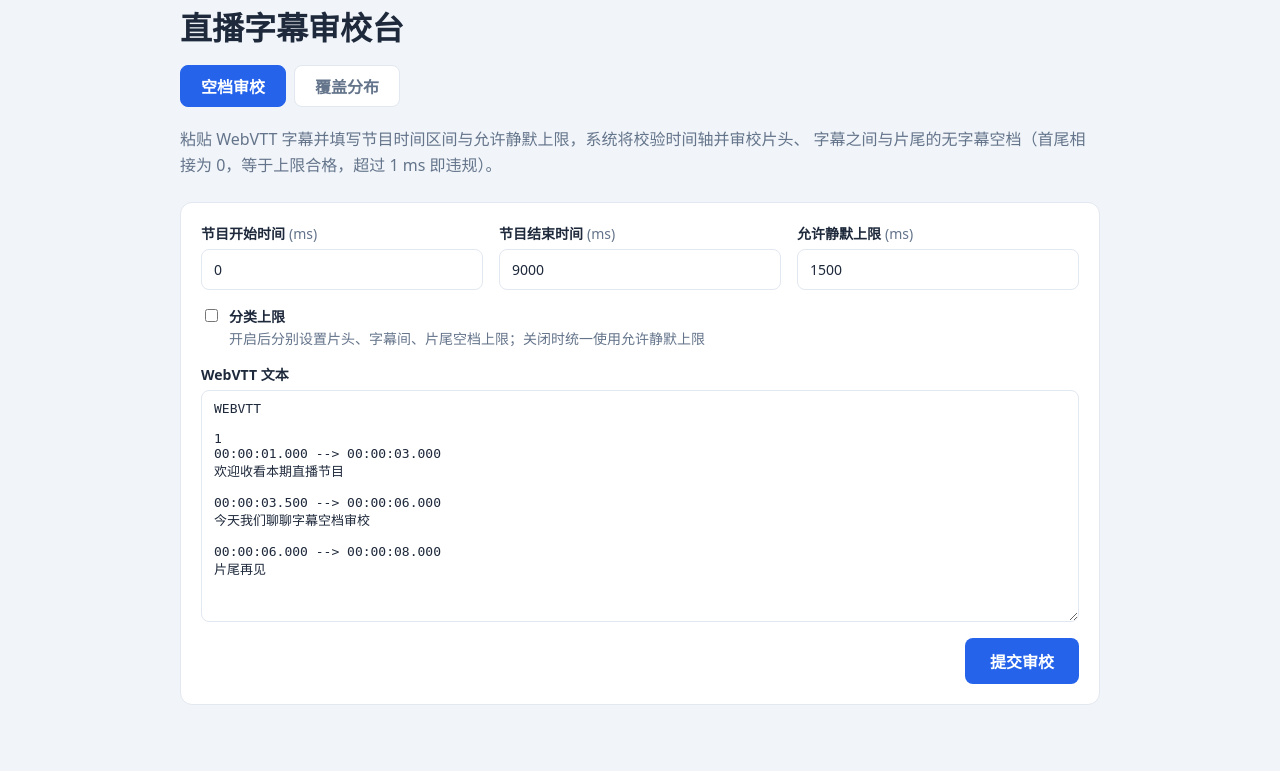
Test case: Coverage page states › renders the distribution with min coverage and low-coverage buckets
Click the tab with test id "tab-coverage": (347, 86) top-left (294, 65), bottom-right (400, 107)
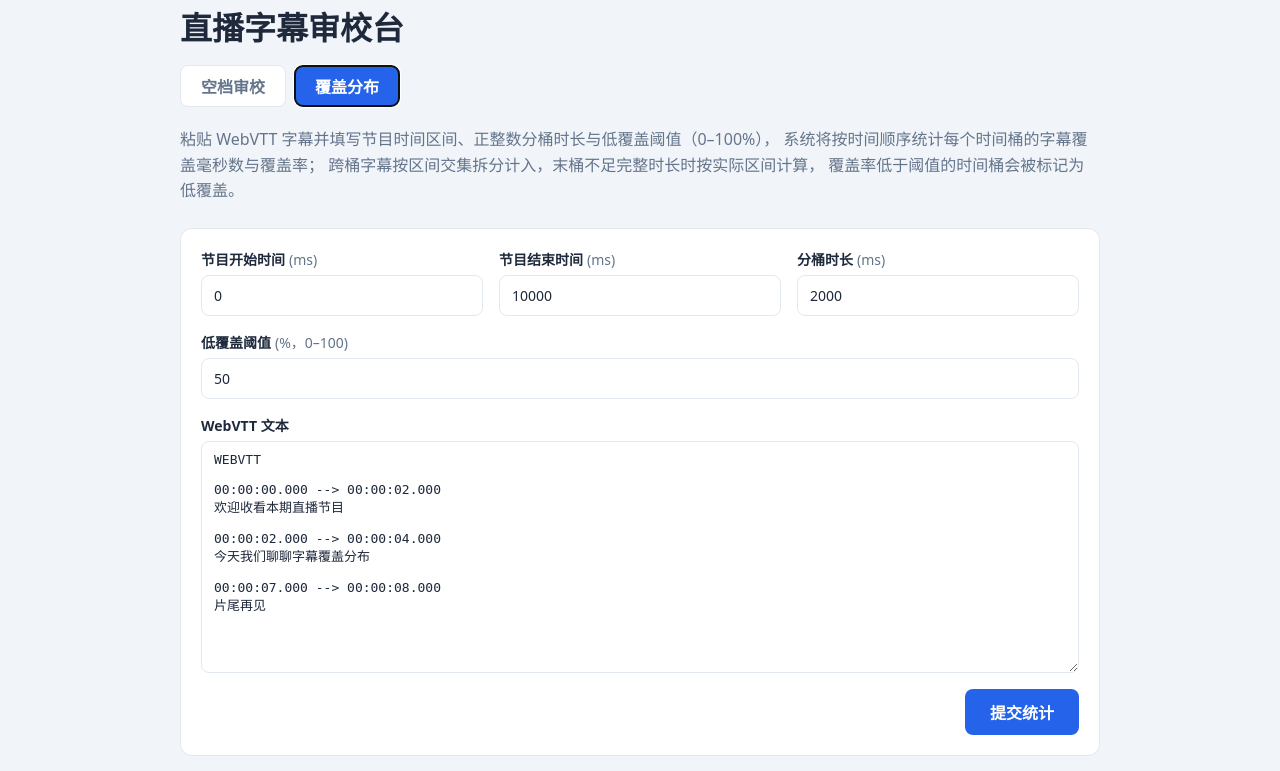
Click the button with test id "coverage-submit": (1022, 712) top-left (965, 689), bottom-right (1079, 735)
(page scrolled)
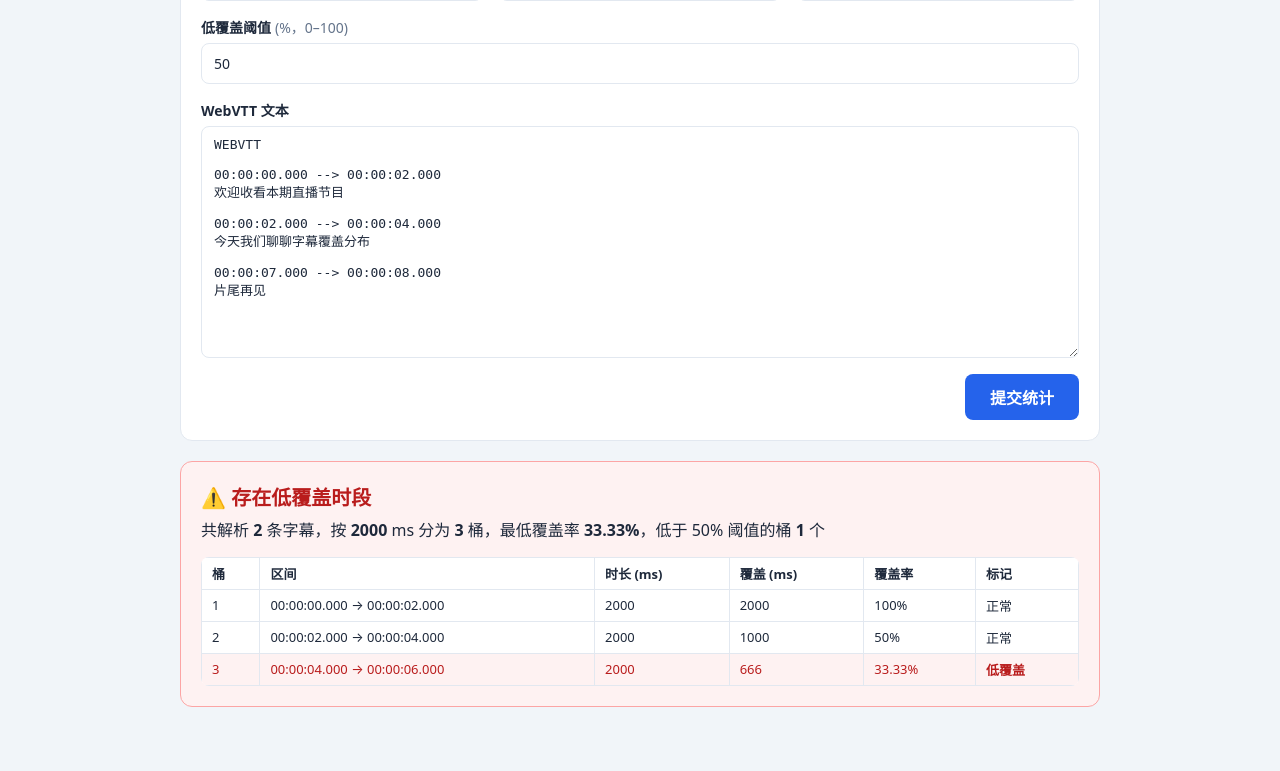
Expected: the heading with test id "coverage-verdict" shows "存在低覆盖时段", top-left (201, 484), bottom-right (371, 511)
Expected: the text with test id "min-coverage" reads "33.33%", top-left (584, 519), bottom-right (640, 541)
Expected: the text with test id "low-count" reads "1", top-left (796, 519), bottom-right (805, 541)
